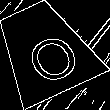O_NW: (11, 18, 78, 83)
